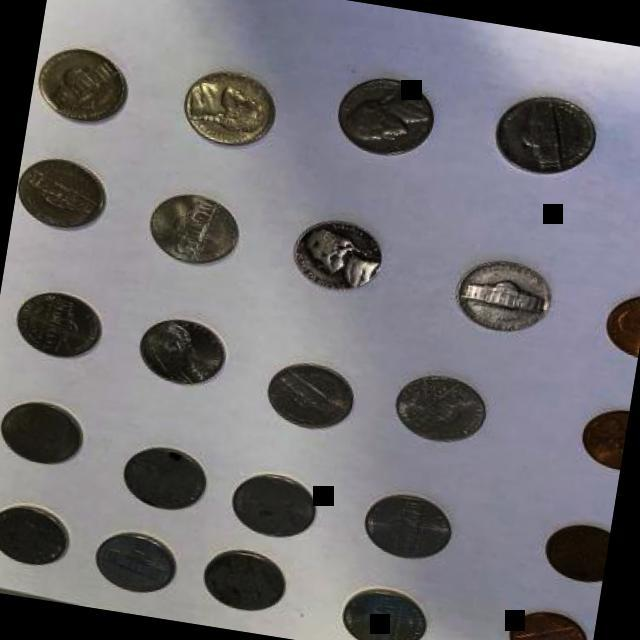Nickel: (326, 68, 452, 171), (486, 88, 604, 186), (177, 62, 283, 155), (286, 212, 394, 298), (33, 39, 134, 130), (260, 353, 366, 439), (452, 256, 558, 342), (13, 151, 115, 238), (391, 368, 494, 453), (144, 187, 244, 273), (352, 486, 454, 568), (130, 311, 230, 394), (112, 438, 211, 518), (222, 467, 322, 545), (8, 286, 108, 364), (0, 393, 91, 474), (89, 526, 185, 600), (196, 544, 290, 617), (0, 493, 77, 574), (330, 579, 432, 640)
Penny: (534, 518, 611, 590), (574, 400, 630, 474), (500, 601, 592, 640), (599, 287, 640, 360)
